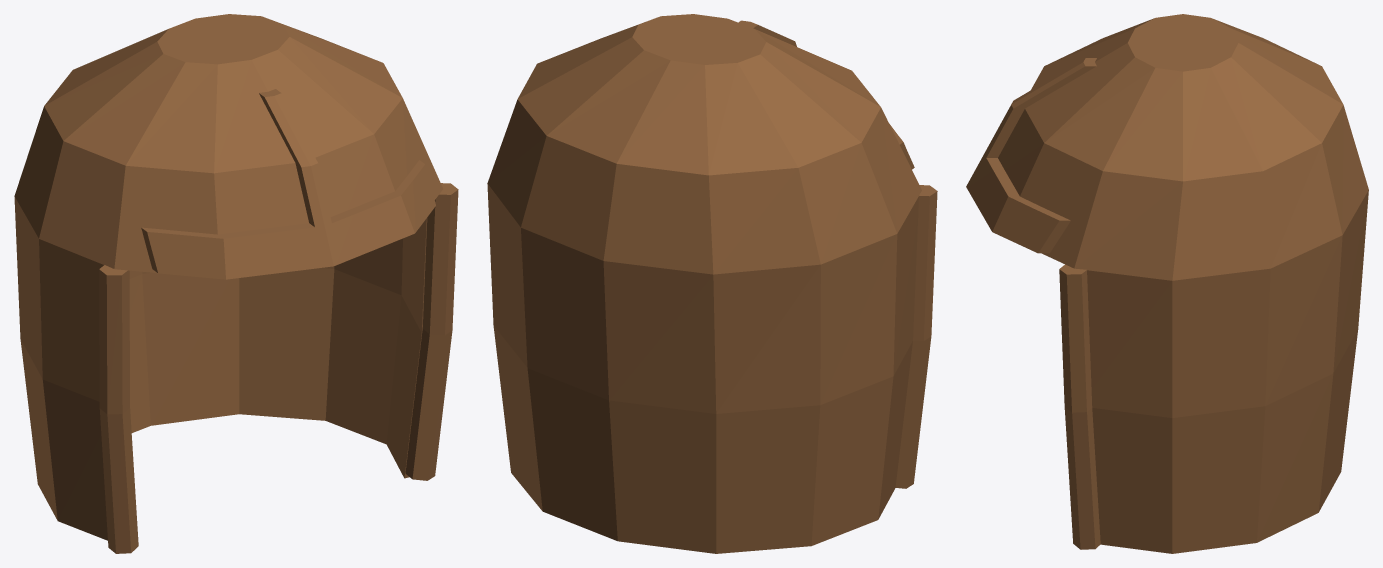
File: leather_head-male.glb
3 views of the same model, side by side, from view 1: azimuth 30°, elevation 25°; view 2: azimuth 150°, elevation 25°; view 3: azimuth 270°, elevation 25° (orthographic). The views are drawn at different scales.
Visible parts, largest first — view 1: leather joined crown and nape guard, Fitted brow binding, Bound face opening -1, Bound face opening 1, Cap crown sewn seam; view 2: leather joined crown and nape guard, Bound face opening -1; view 3: leather joined crown and nape guard, Bound face opening 1, Fitted brow binding, Cap crown sewn seam.
Part boxes in pixels (x1,y1,x2,y2): leather joined crown and nape guard: (14, 14, 442, 540); Fitted brow binding: (141, 160, 435, 279); Bound face opening -1: (99, 265, 138, 553); Bound face opening 1: (405, 183, 458, 480); Cap crown sewn seam: (259, 89, 331, 227); leather joined crown and nape guard: (487, 14, 921, 553); Bound face opening -1: (895, 185, 937, 488); leather joined crown and nape guard: (998, 14, 1368, 553); Bound face opening 1: (1059, 264, 1100, 549); Fitted brow binding: (966, 154, 1070, 253); Cap crown sewn seam: (984, 58, 1096, 157).
Bounding box in the file's own units: 1.01 × 1.12 × 0.9448.
